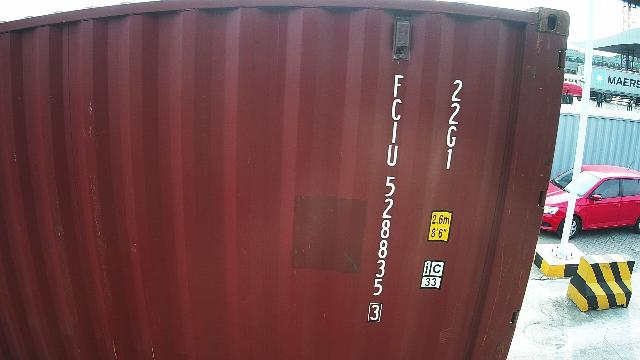2: (382, 197, 394, 218)
3: (368, 303, 382, 321), (376, 260, 386, 278)
5: (384, 176, 396, 197), (373, 278, 383, 296)
8: (381, 219, 392, 239), (378, 240, 388, 258)
C: (392, 99, 402, 121)
F: (392, 74, 403, 98)
I: (392, 122, 398, 144)
U: (386, 145, 398, 167)
